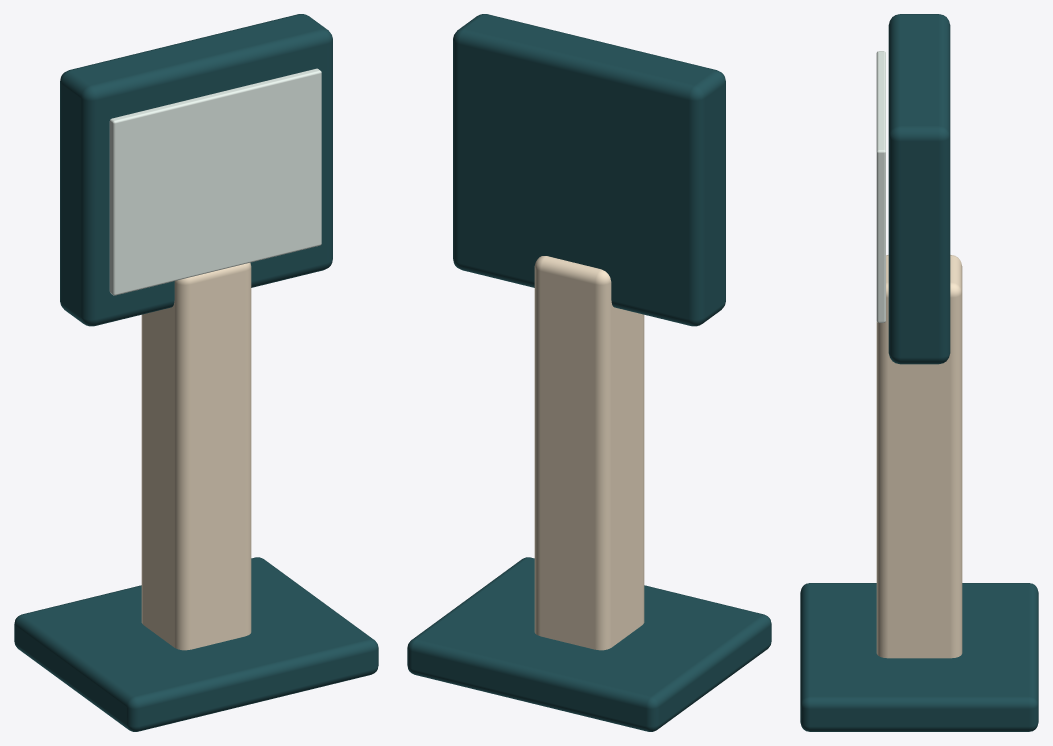
Rendered from kiosk.glb.
The picture shows the model from 3 angles, left to right: view 1: azimuth 30°, elevation 25°; view 2: azimuth 150°, elevation 25°; view 3: azimuth 270°, elevation 25°; orthographic projection.
Parts seen in each view (by area): view 1: stem, screen, base, display; view 2: display, stem, base; view 3: base, stem, display, screen.
Part boxes in pixels (left/top/right/bottom): stem: left=141, top=263, right=251, bottom=650; screen: left=109, top=68, right=321, bottom=295; base: left=14, top=557, right=378, bottom=731; display: left=60, top=14, right=332, bottom=326; display: left=453, top=14, right=725, bottom=326; stem: left=534, top=256, right=644, bottom=650; base: left=407, top=557, right=771, bottom=731; base: left=800, top=583, right=1038, bottom=731; stem: left=876, top=255, right=962, bottom=658; display: left=888, top=14, right=950, bottom=364; screen: left=876, top=51, right=885, bottom=322.
Bounding box in the file's own units: 0.6 × 1.4 × 0.5.
